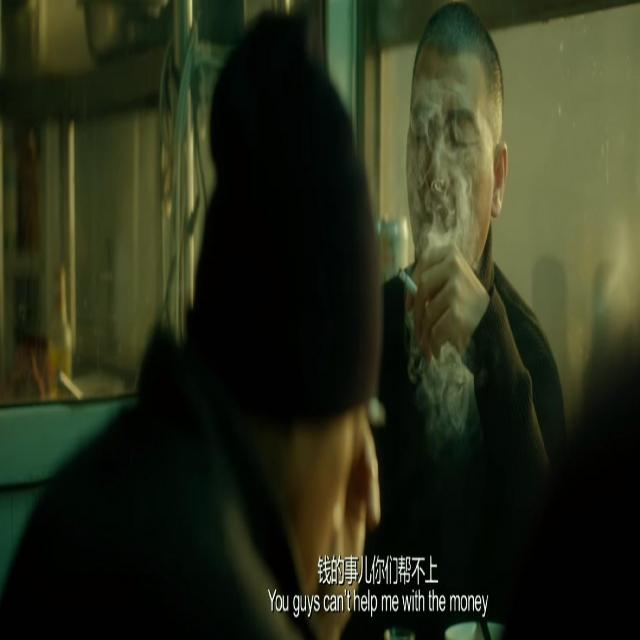cigarette: (396, 259, 433, 315)
